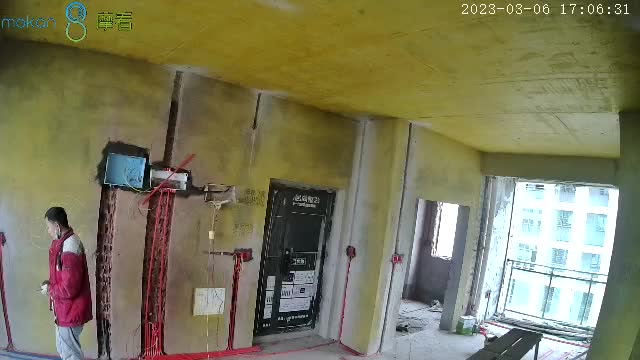people: (40, 206, 92, 360)
window: (492, 175, 616, 327)
